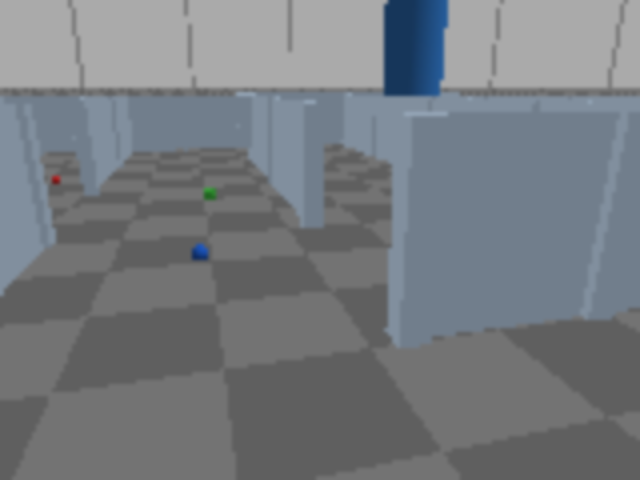puck: (187, 241, 212, 265)
